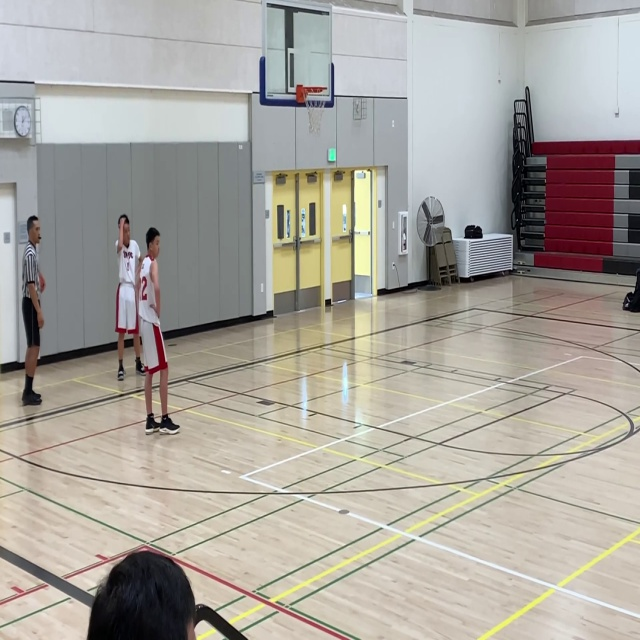Basketball: (36, 273, 45, 293)
